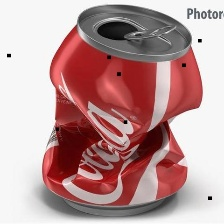can: (36, 3, 207, 219)
